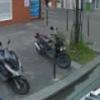motorcycles: (34, 27, 72, 68)
